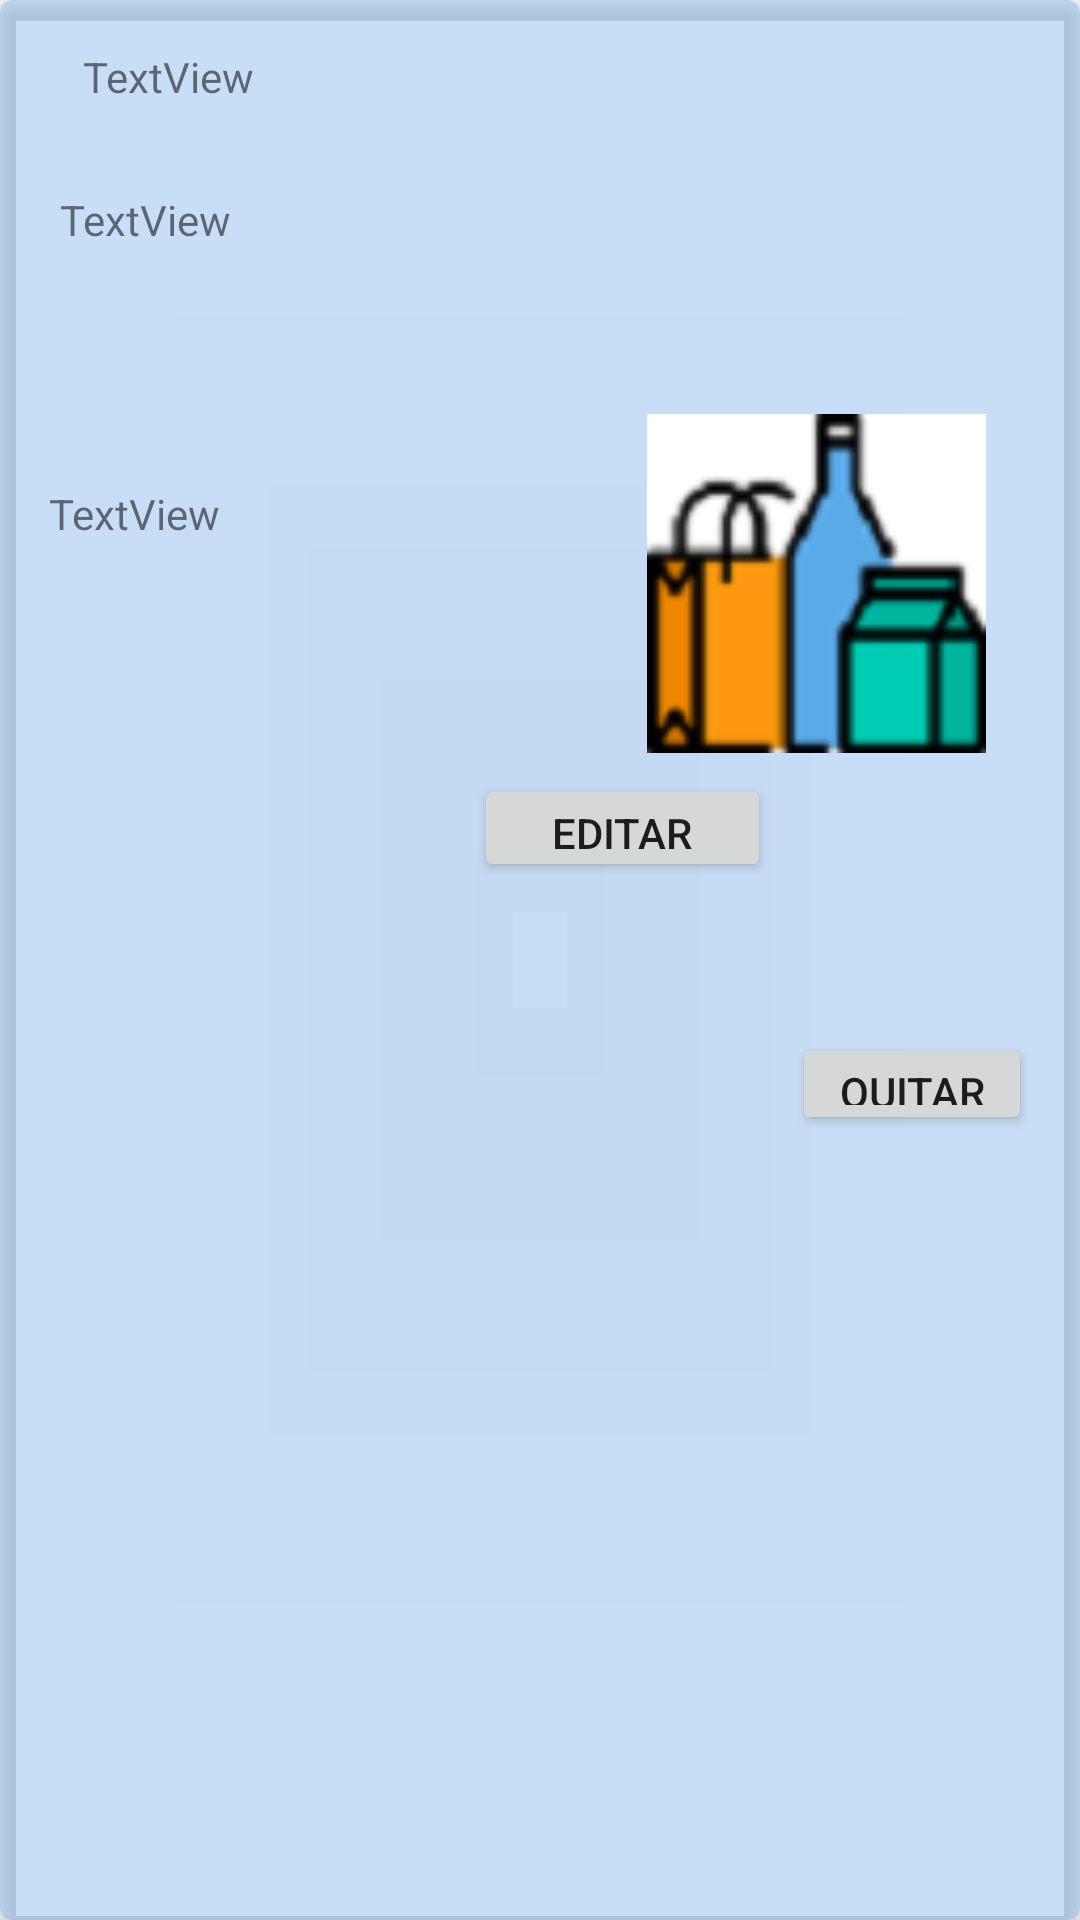

Locate icon controls on the screen. Image size 1080×1920, boxes as (x1, y1, x2, y2).
products: (647, 414, 986, 753)
